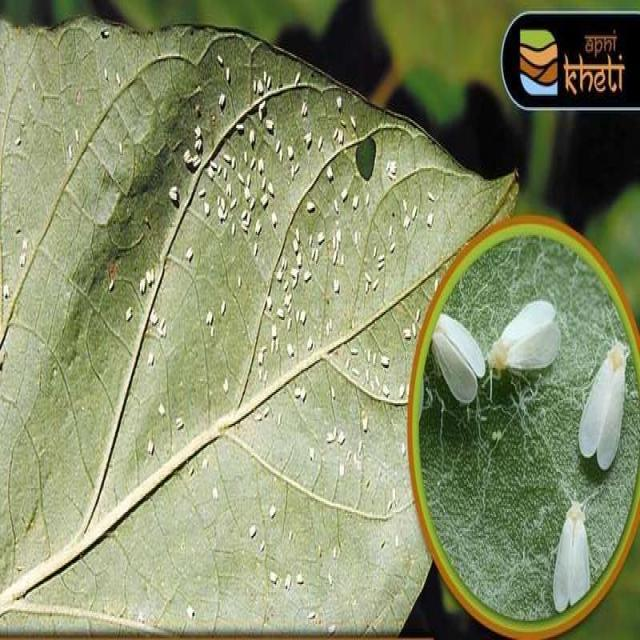Whiteflies: (547, 309, 636, 464), (533, 425, 605, 612), (484, 272, 563, 400)
